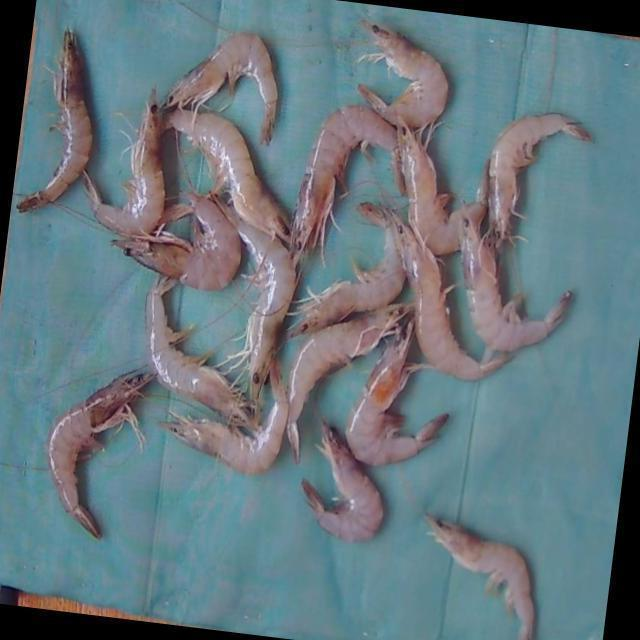shrimp: (386, 210, 514, 381), (286, 304, 409, 462), (291, 104, 407, 262), (211, 192, 297, 403), (460, 196, 573, 351), (47, 373, 151, 539), (145, 275, 255, 429), (166, 108, 290, 240), (289, 202, 406, 335), (345, 317, 449, 465), (162, 361, 289, 474), (16, 29, 92, 211), (427, 514, 536, 640), (489, 112, 592, 239), (165, 30, 278, 143), (112, 192, 241, 289), (83, 88, 165, 236), (398, 124, 490, 254), (359, 19, 449, 127), (302, 422, 383, 542)
